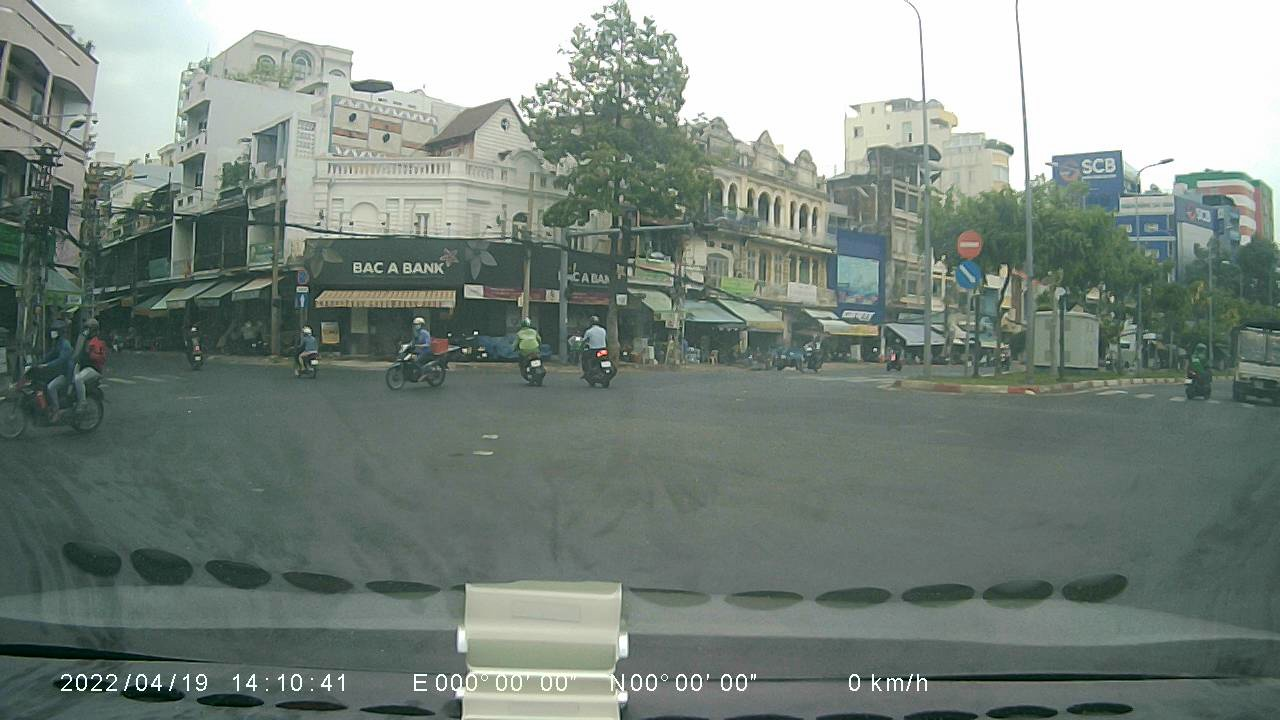Cam di nguoc chieu: (955, 227, 984, 258)
Huong di phai re phai: (953, 259, 980, 289)
